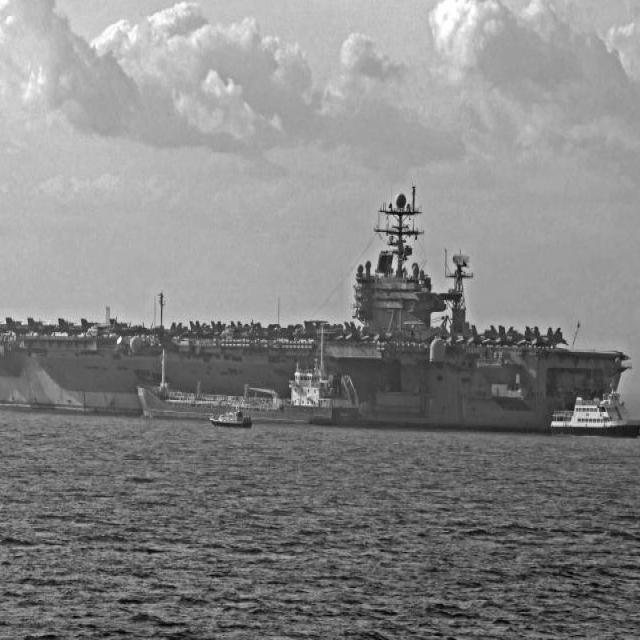Portanaves: (1, 177, 633, 426)
